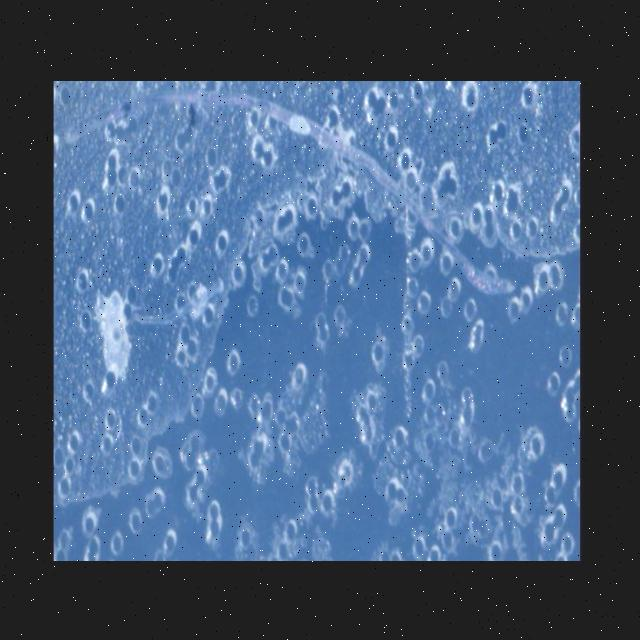Fibre: (55, 80, 502, 300)
